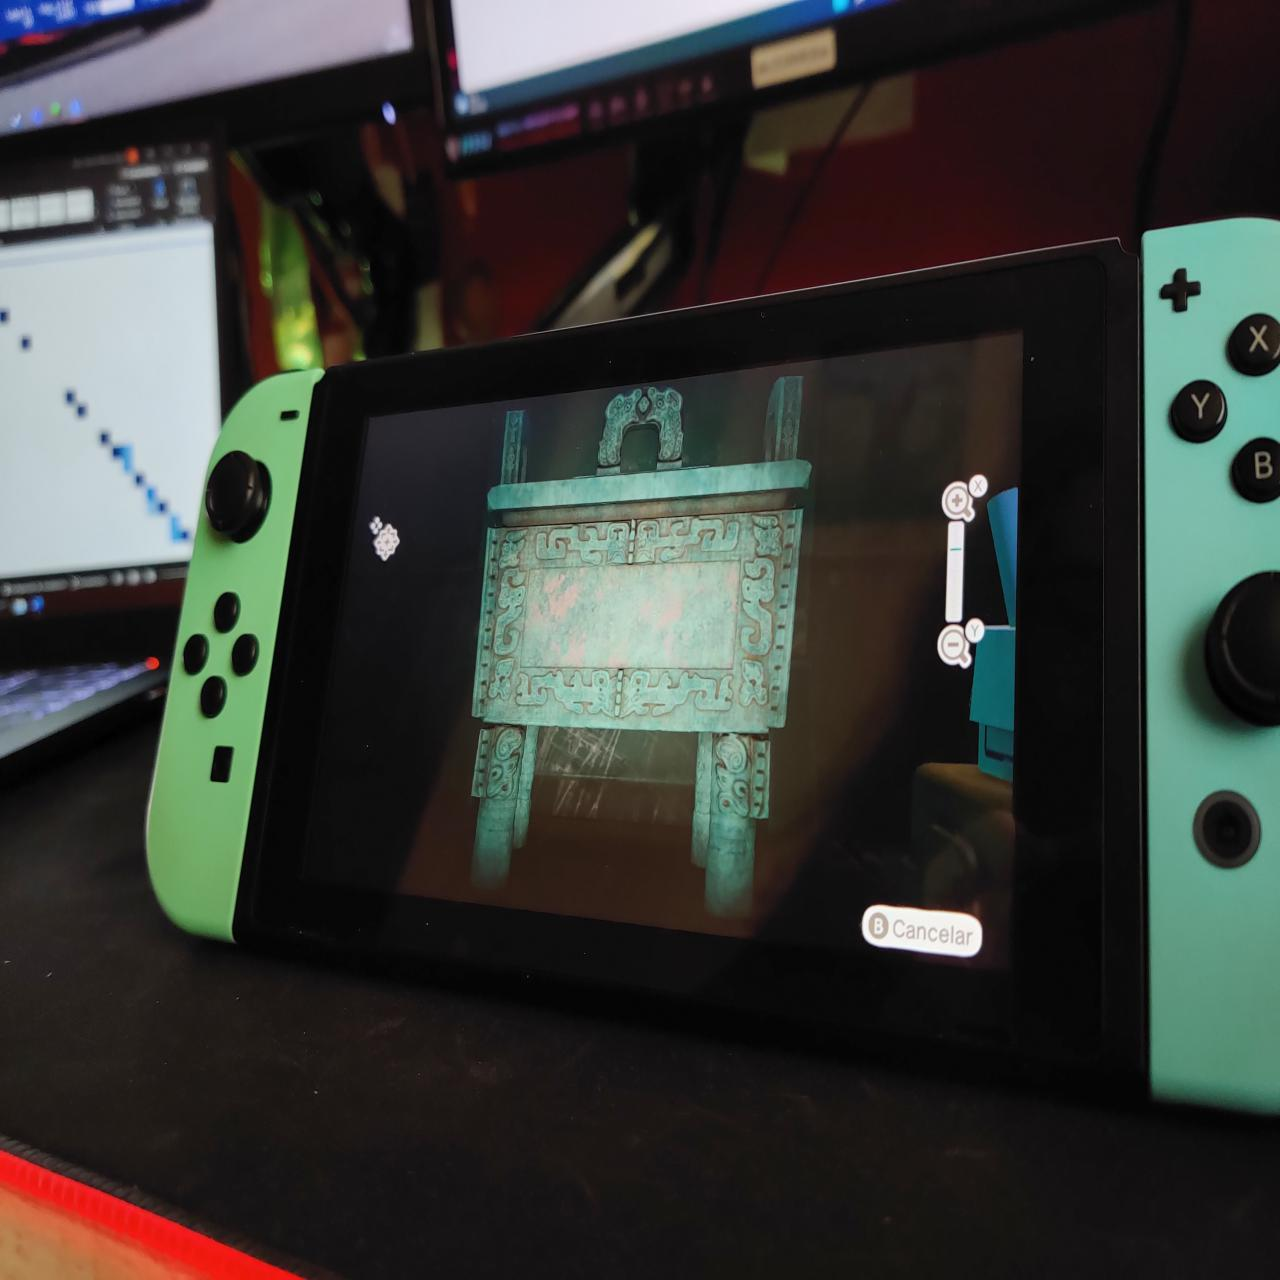HoumuwuDingFake: (463, 365, 817, 924)
